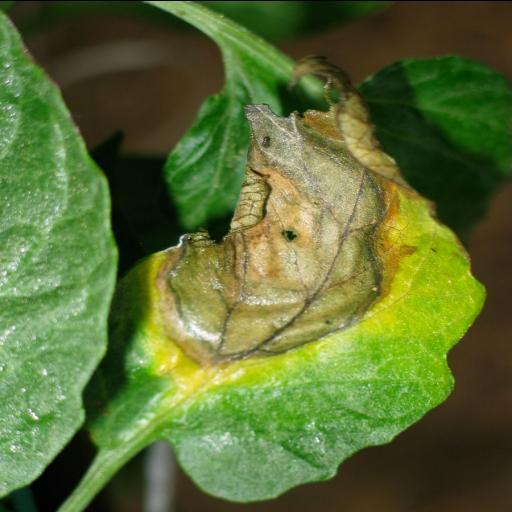disease_tomato: (86, 55, 486, 503)
